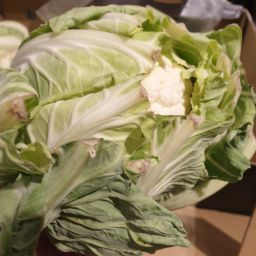Cauliflower: (2, 9, 245, 254), (18, 43, 202, 219), (90, 56, 220, 157)
